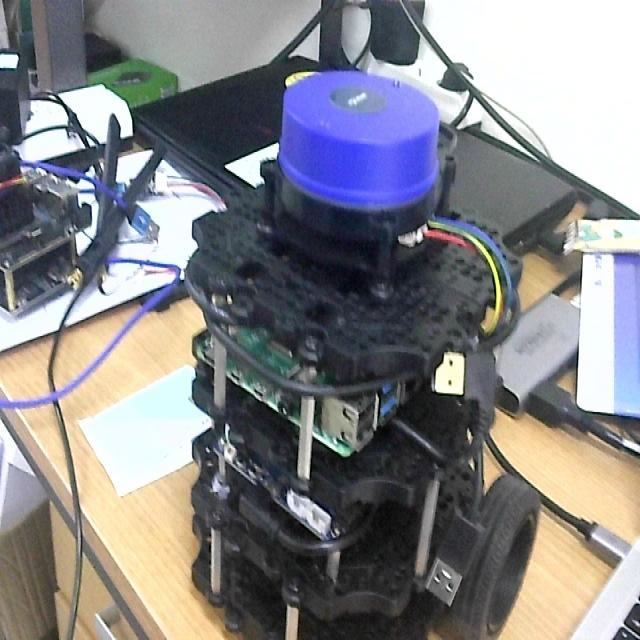turtle: (182, 65, 542, 640)
